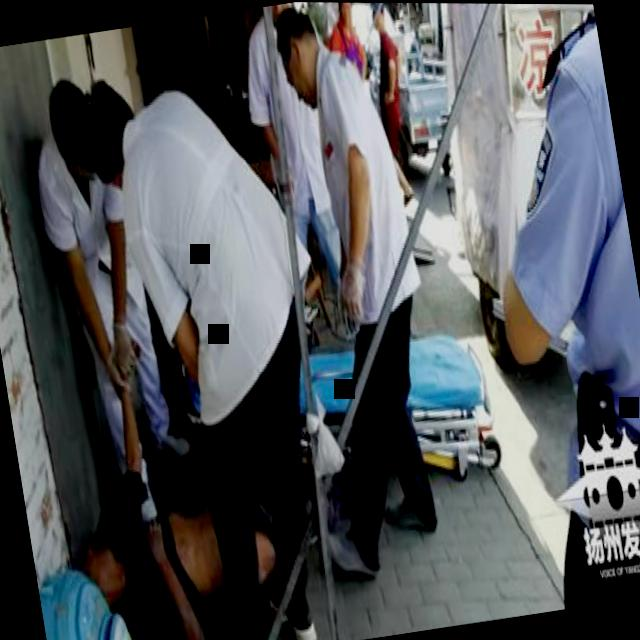Fall-Detected: (37, 300, 320, 640)
